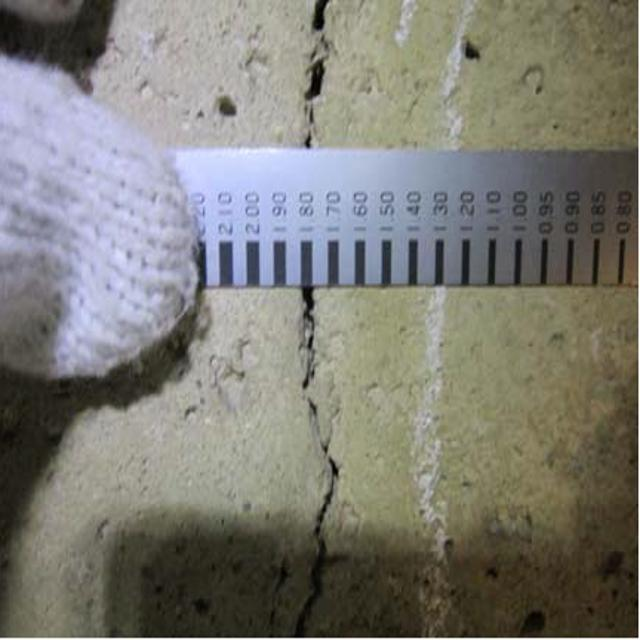crack: (262, 293, 358, 640), (290, 1, 350, 154)
